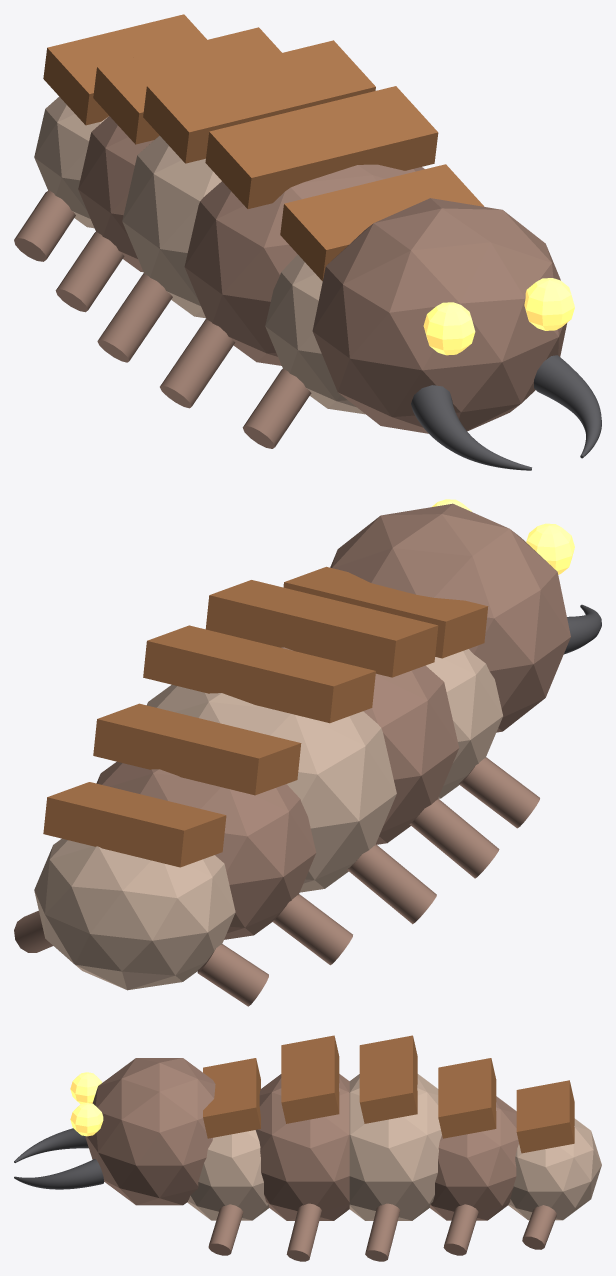
File: rustgrub.glb
The picture shows the model from 3 angles, top to bottom: view 1: azimuth 30°, elevation 25°; view 2: azimuth 150°, elevation 25°; view 3: azimuth 270°, elevation 25°; orthographic projection. The views are drawn at different scales.
Visible parts, largest first — view 1: rustgrub; view 2: rustgrub; view 3: rustgrub.
Part boxes in pixels (x1=…): rustgrub: x1=14, y1=14, x2=601, y2=470; rustgrub: x1=14, y1=499, x2=601, y2=1006; rustgrub: x1=14, y1=1035, x2=601, y2=1261.
Size of the model in its own units: 0.4011 by 0.2827 by 0.9749.
